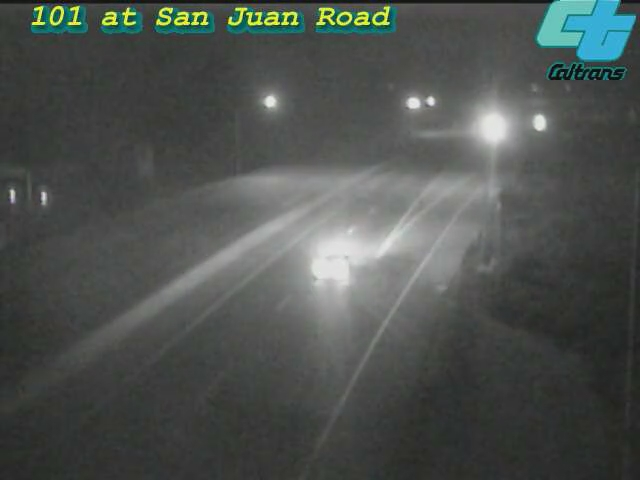vehicle: (299, 220, 379, 300), (461, 103, 511, 153), (515, 97, 565, 147)
